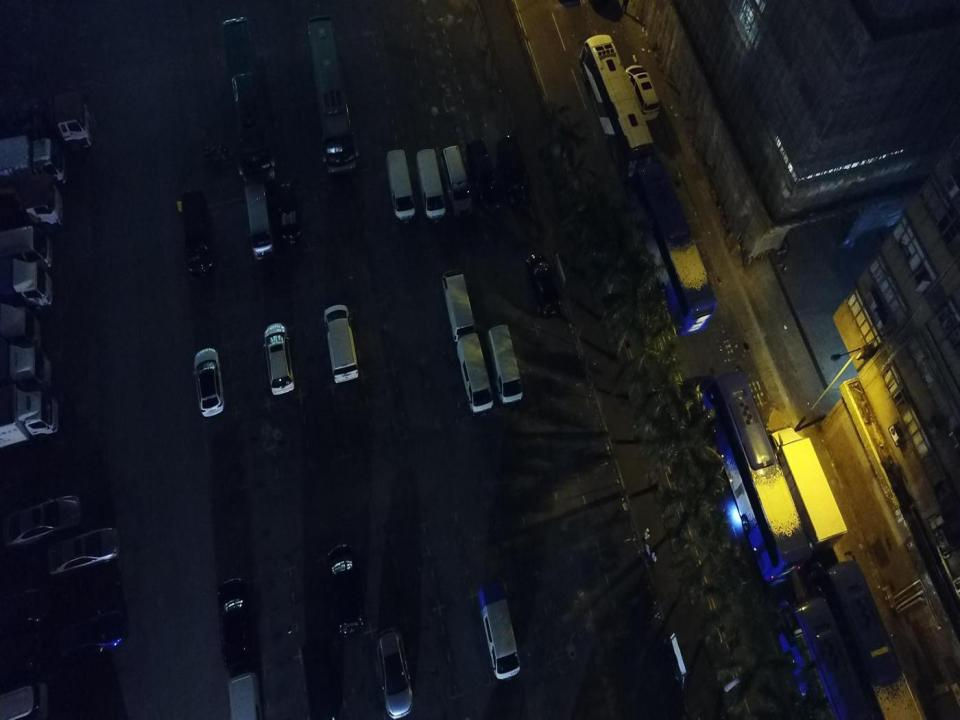bus: (703, 370, 809, 585), (821, 560, 930, 719), (630, 161, 717, 339), (778, 599, 888, 719), (581, 34, 655, 184), (221, 17, 279, 184), (304, 16, 361, 172)
car: (2, 493, 81, 551), (47, 525, 120, 574), (328, 545, 365, 637), (375, 629, 413, 717), (48, 574, 128, 614), (55, 616, 128, 653), (219, 578, 249, 667), (526, 251, 562, 320), (263, 322, 295, 399), (194, 346, 226, 419), (277, 182, 302, 246)
truck: (768, 426, 847, 554), (0, 86, 95, 152)
van: (480, 580, 520, 680), (458, 332, 494, 415), (488, 324, 523, 408), (182, 190, 214, 279), (325, 304, 358, 386), (497, 132, 530, 212), (465, 138, 500, 208), (244, 182, 274, 263), (386, 147, 417, 223), (441, 145, 474, 216), (443, 268, 474, 342), (418, 148, 447, 224), (626, 63, 662, 123), (225, 673, 264, 719)
